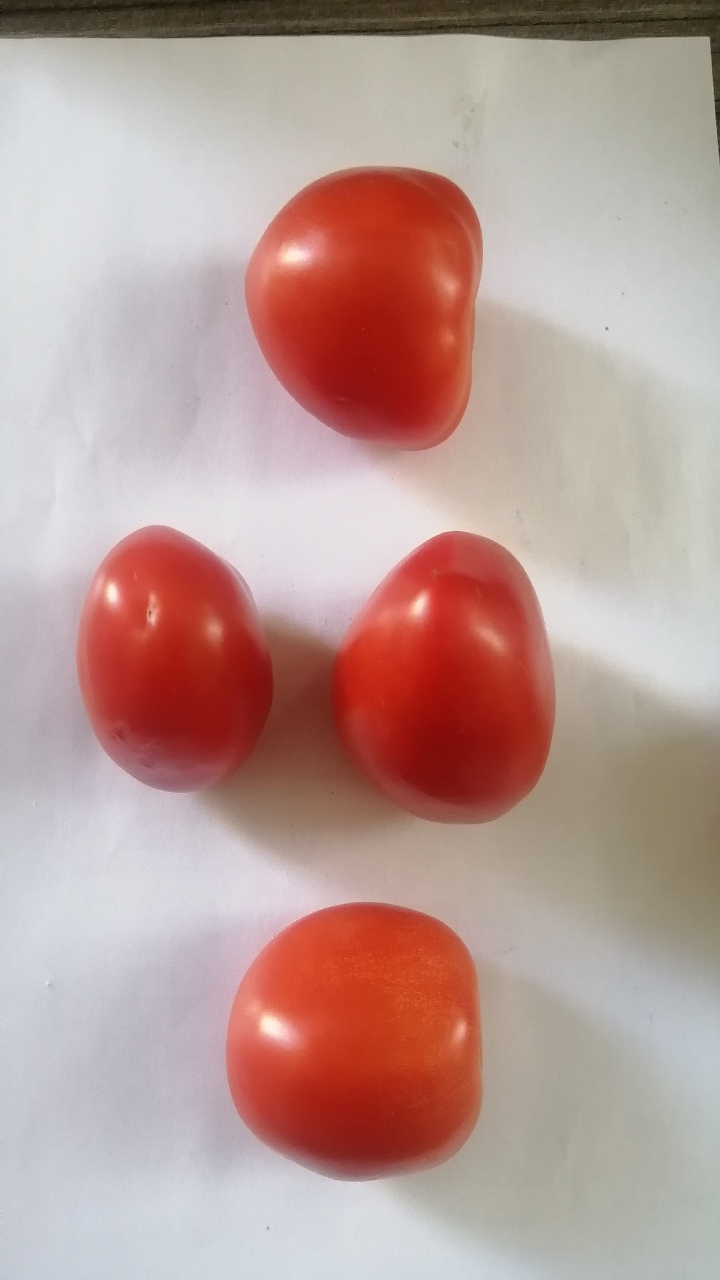tomateRojo: (203, 882, 511, 1200), (232, 132, 506, 475), (317, 517, 568, 832), (57, 497, 284, 828)
